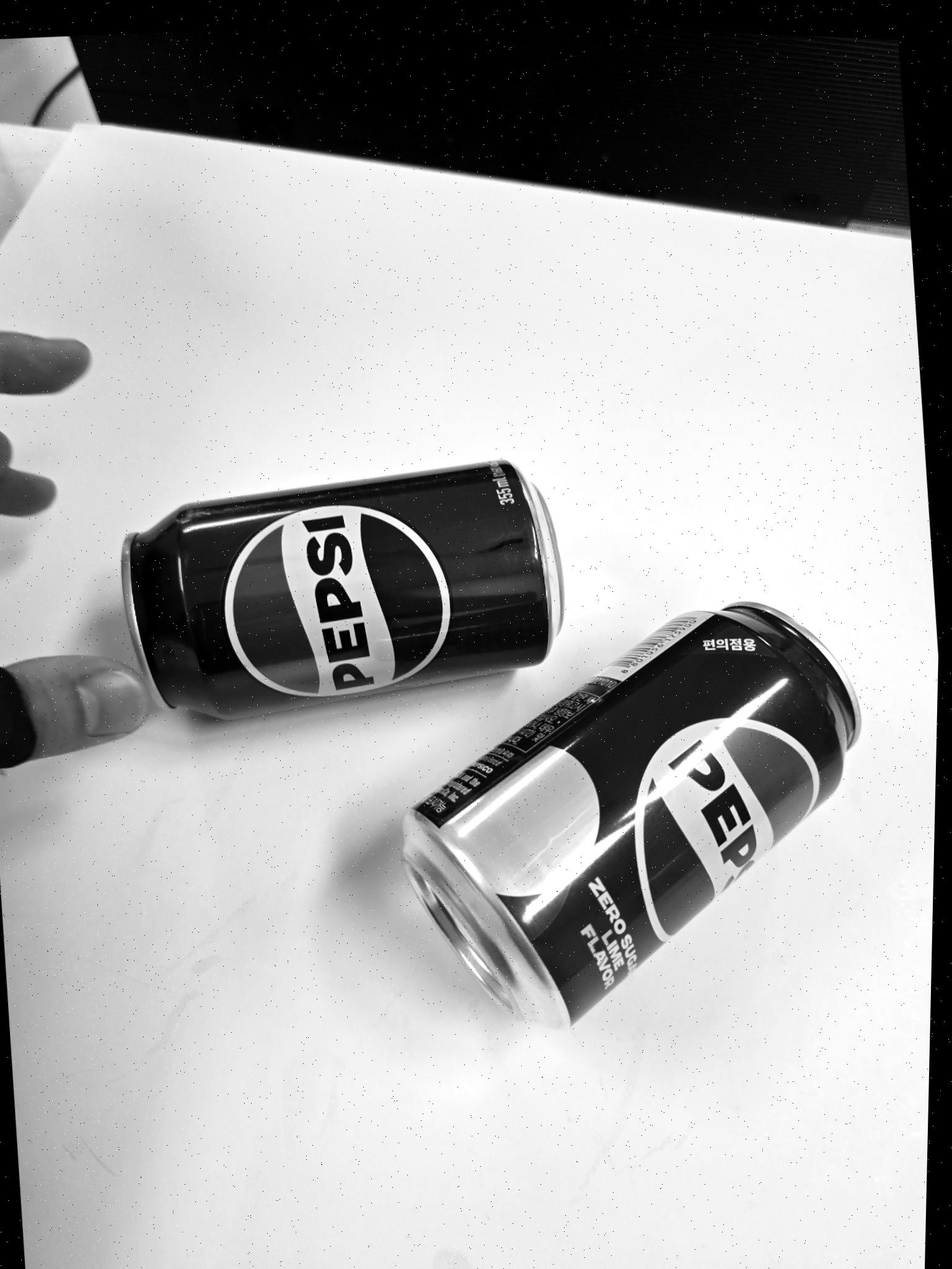can_pepsi: (124, 455, 569, 727)
can_pepsi_zero: (401, 601, 862, 1026)
